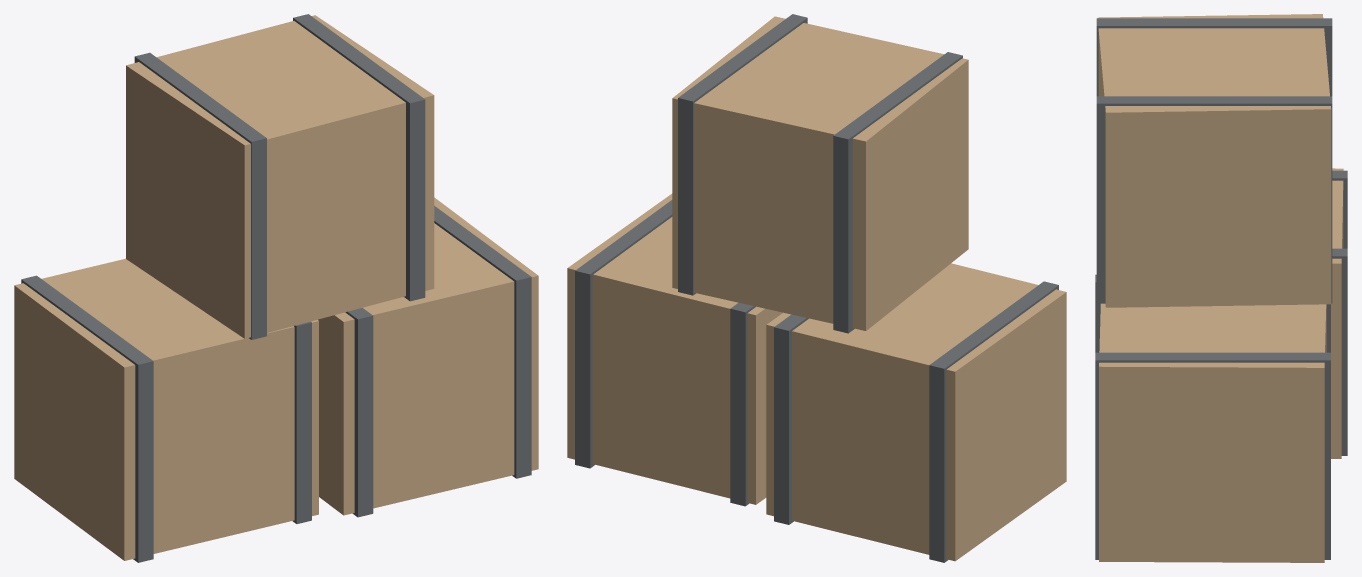
Rendered from crate_stack_03.glb.
3 views of the same model, side by side, from view 1: azimuth 30°, elevation 25°; view 2: azimuth 150°, elevation 25°; view 3: azimuth 270°, elevation 25° (orthographic). The views are drawn at different scales.
Parts seen in each view (by area): view 1: crate2, crate0, crate1, brace2_0.18, brace0_-0.18, brace2_-0.18, brace1_0.18, brace1_-0.18, brace0_0.18; view 2: crate2, crate0, crate1, brace2_-0.18, brace0_-0.18, brace2_0.18, brace1_0.18, brace0_0.18, brace1_-0.18; view 3: crate2, crate1, brace1_0.18, brace2_0.18, brace2_-0.18, crate0, brace0_0.18, brace1_-0.18, brace0_-0.18.
Part boxes in pixels (box(x1,y1,x2,y2)): crate2: box(126, 15, 434, 338); crate0: box(14, 258, 318, 560); crate1: box(318, 197, 538, 515); brace2_0.18: box(293, 14, 425, 301); brace0_-0.18: box(21, 275, 153, 562); brace2_-0.18: box(134, 52, 266, 339); brace1_0.18: box(434, 206, 531, 478); brace1_-0.18: box(345, 308, 373, 517); brace0_0.18: box(292, 321, 311, 523); crate2: box(672, 16, 968, 330); crate0: box(766, 263, 1066, 561); crate1: box(567, 193, 782, 504); brace2_-0.18: box(833, 52, 962, 333); brace0_-0.18: box(929, 281, 1058, 562); brace2_0.18: box(678, 14, 807, 295); brace1_0.18: box(575, 200, 672, 468); brace0_0.18: box(774, 314, 808, 524); brace1_-0.18: box(730, 302, 755, 506); crate2: box(1098, 14, 1331, 307); crate1: box(1099, 303, 1326, 562); brace1_0.18: box(1095, 352, 1330, 559); brace2_0.18: box(1096, 96, 1332, 303); brace2_-0.18: box(1096, 18, 1332, 96); crate0: box(1331, 168, 1343, 458); brace0_0.18: box(1332, 248, 1347, 455); brace1_-0.18: box(1095, 274, 1330, 352); brace0_-0.18: box(1332, 170, 1347, 248).
Size of the model in its own units: 0.9244 by 0.87 by 0.4928.
